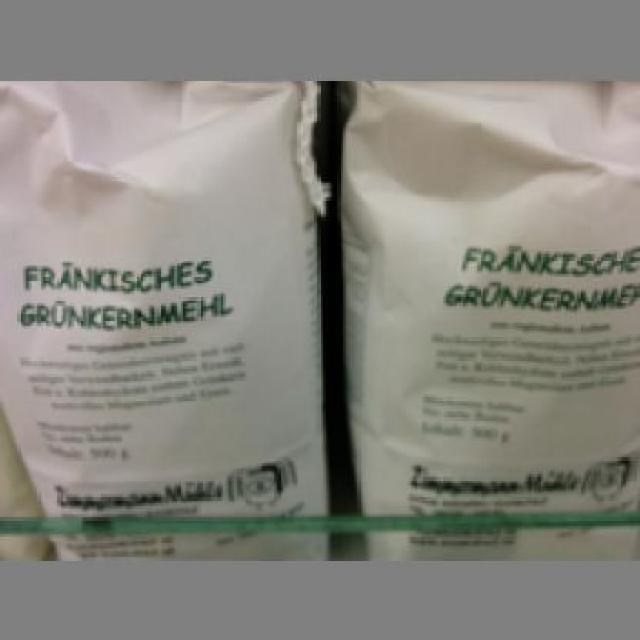Flour: (0, 78, 332, 552), (337, 79, 637, 552)
